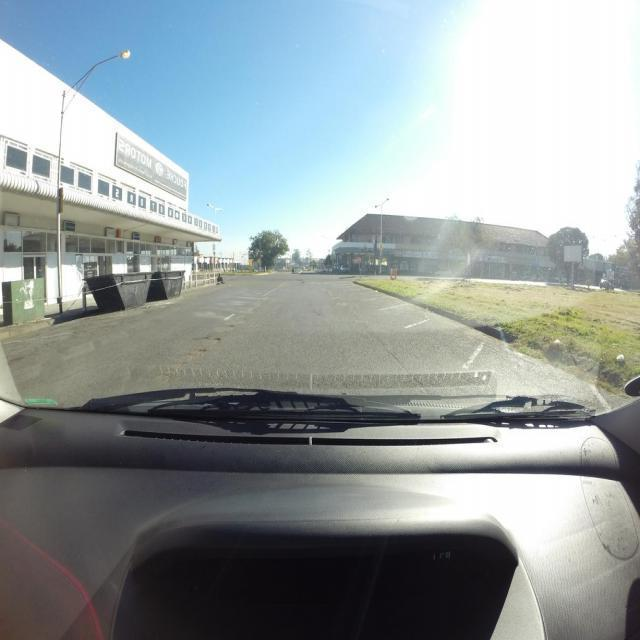pothole: (191, 337, 222, 354), (224, 323, 234, 330)
